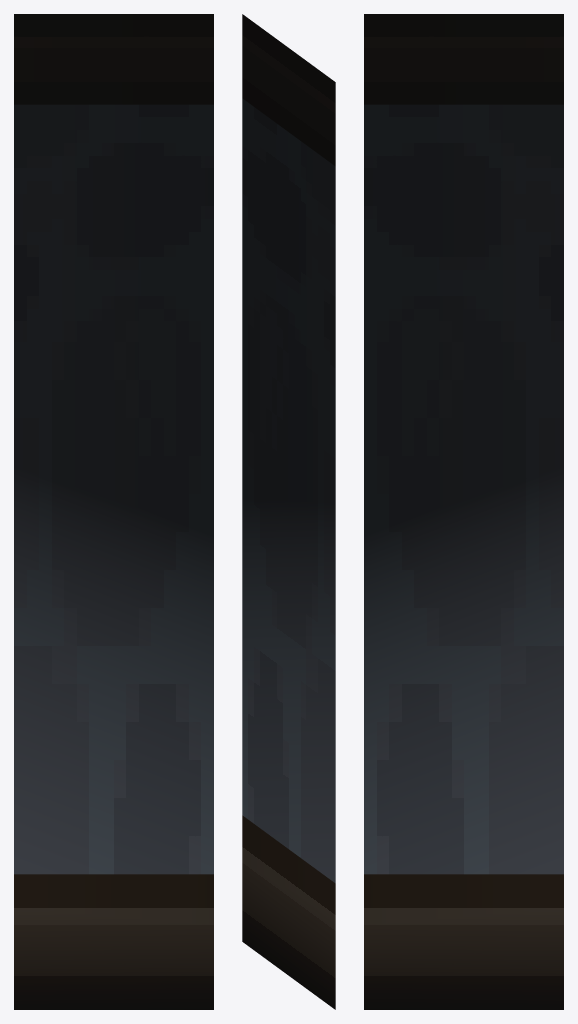
3 renders of one model, left to right at view 1: azimuth 90°, elevation 25°; view 2: azimuth 210°, elevation 25°; view 3: azimuth 270°, elevation 25°, orthographic. The views are drawn at different scales.
Size of the model in its own units: 0 by 5.5 by 1.
2 materials, 2 textured.
